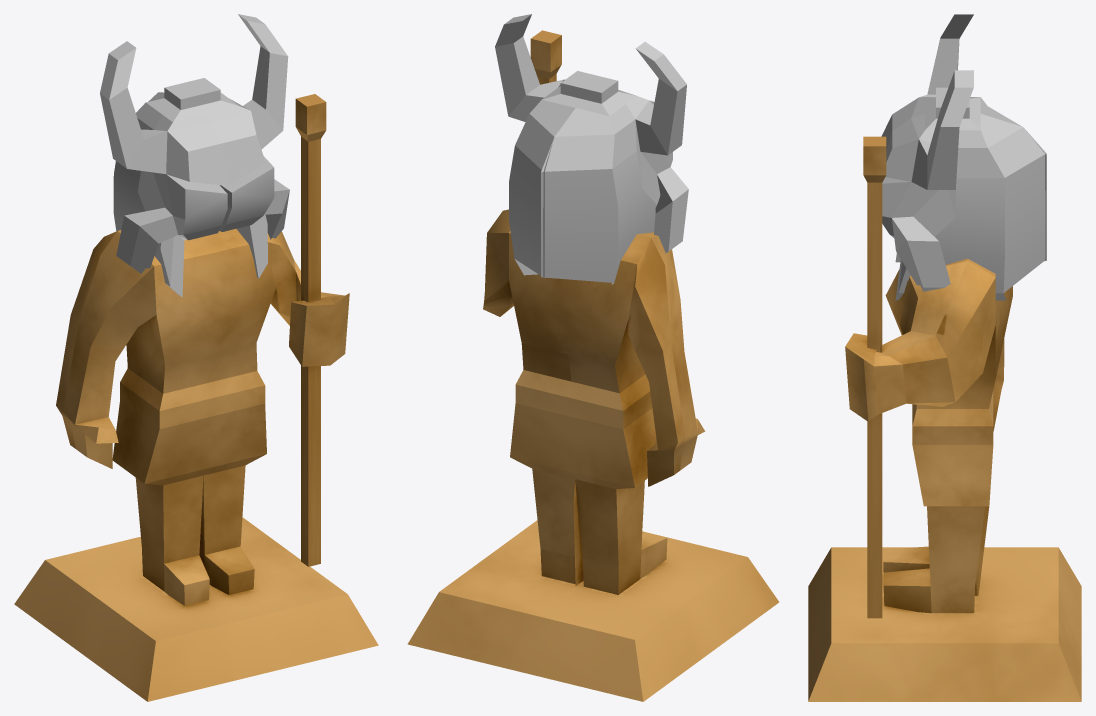
The model's file is Khepri.fbx.
The picture shows the model from 3 angles, left to right: view 1: azimuth 30°, elevation 25°; view 2: azimuth 150°, elevation 25°; view 3: azimuth 270°, elevation 25°; orthographic projection. The views are drawn at different scales.
Parts seen in each view (by area): view 1: polySurface1, polySurface3, pCube18, polySurface4; view 2: polySurface1, polySurface3, pCube18, polySurface4; view 3: polySurface3, polySurface1, pCube18, polySurface4.
Boxes of the visible parts, bbox=[...] form: polySurface1: bbox=[56, 229, 349, 605]; polySurface3: bbox=[14, 517, 378, 701]; pCube18: bbox=[100, 14, 289, 297]; polySurface4: bbox=[295, 94, 326, 566]; polySurface1: bbox=[483, 209, 705, 594]; polySurface3: bbox=[407, 520, 779, 701]; pCube18: bbox=[495, 14, 688, 284]; polySurface4: bbox=[530, 30, 561, 84]; polySurface3: bbox=[808, 547, 1081, 701]; polySurface1: bbox=[845, 258, 1012, 613]; pCube18: bbox=[881, 14, 1046, 300]; polySurface4: bbox=[863, 136, 886, 618].
Size of the model in its own units: 10.08 by 24.45 by 10.08.
